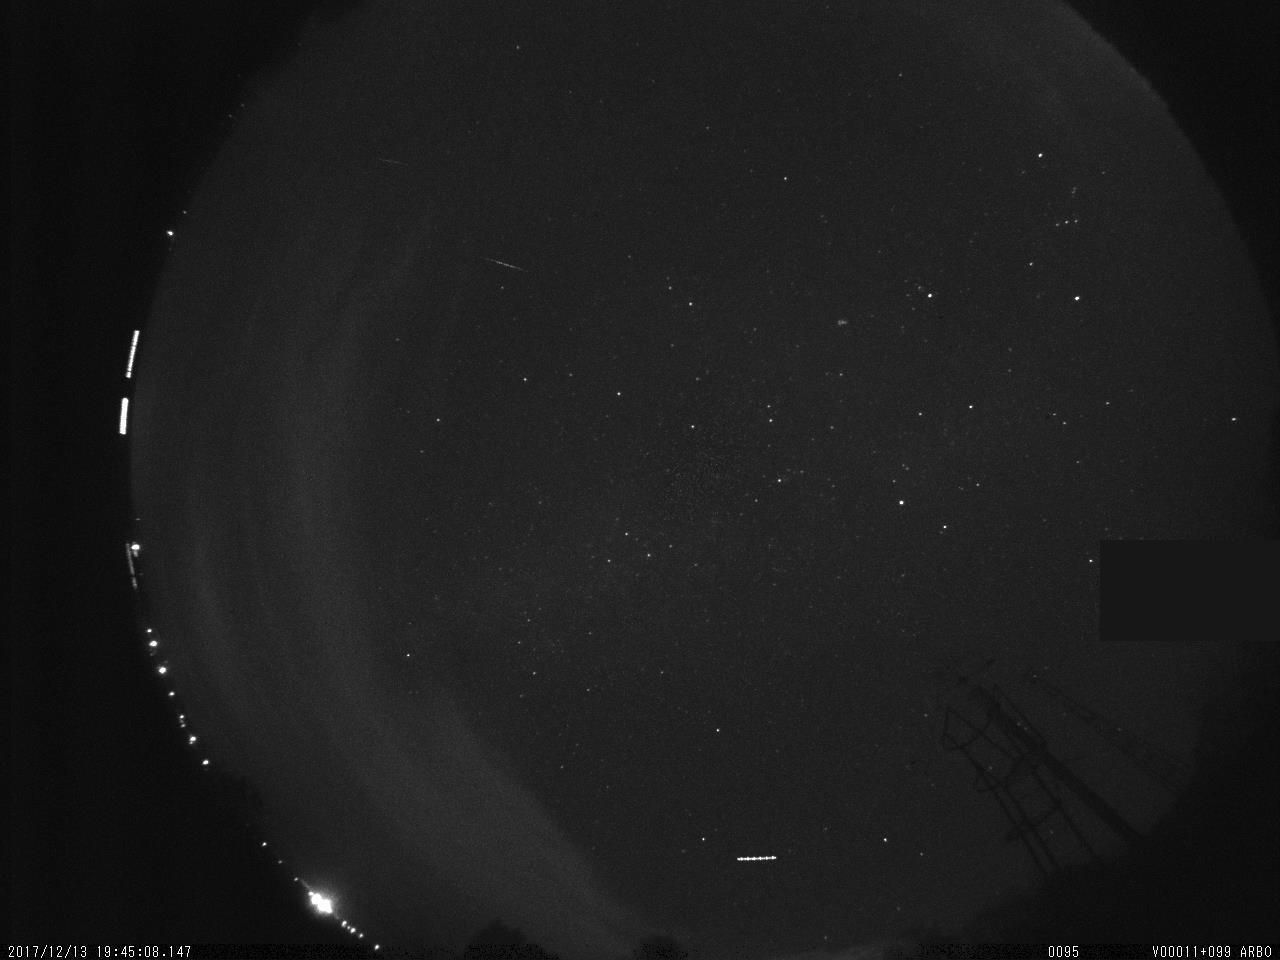meteor: (476, 247, 530, 278)
satelite: (729, 849, 785, 870)
